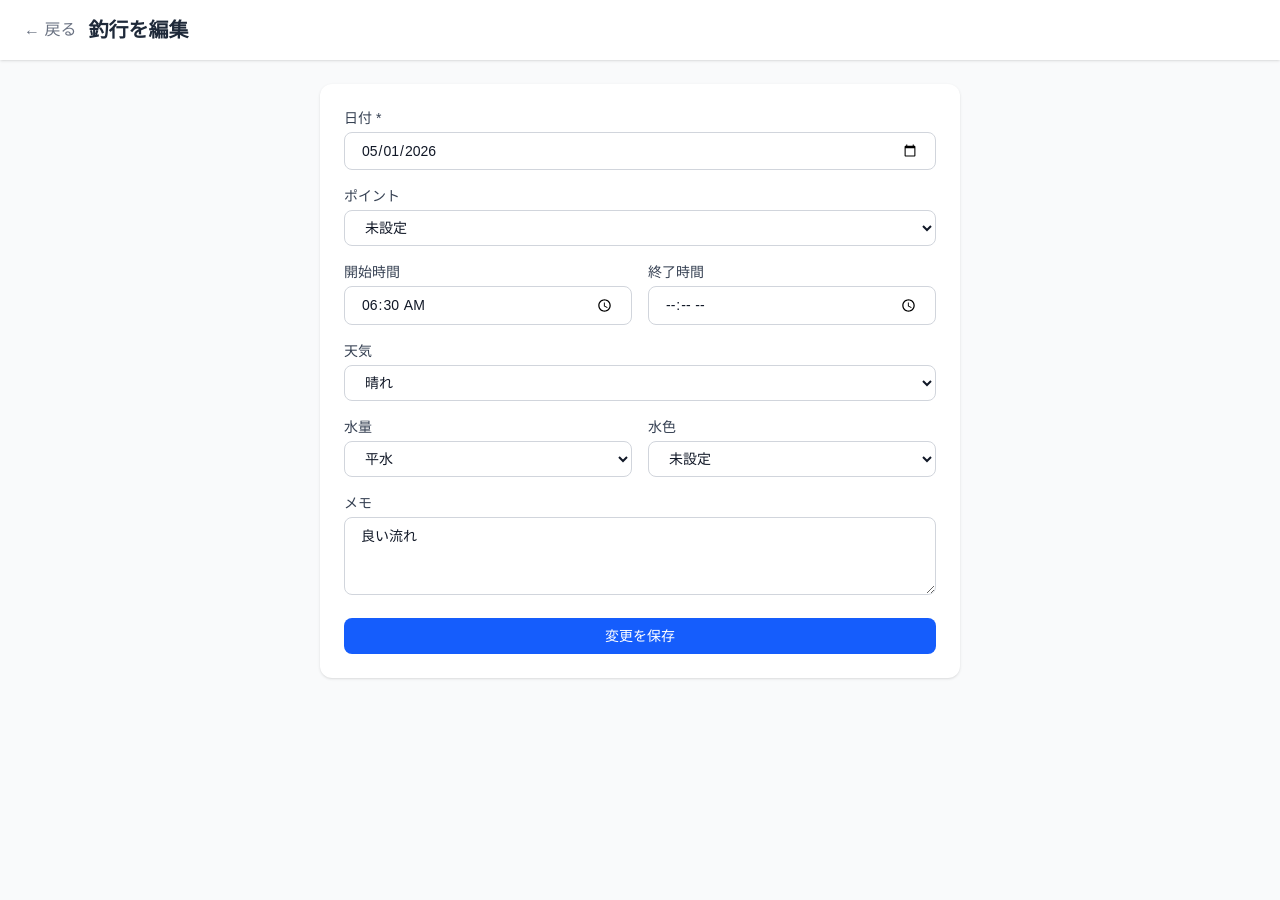
Test: EditSessionPage › 保存失敗時はエラーメッセージを表示し遷移しない
Expected: the date field labelled "日付 *" is shown, [344,132,936,170]
Click the button "変更を保存".
click(640, 636)  # box [344,618,936,654]
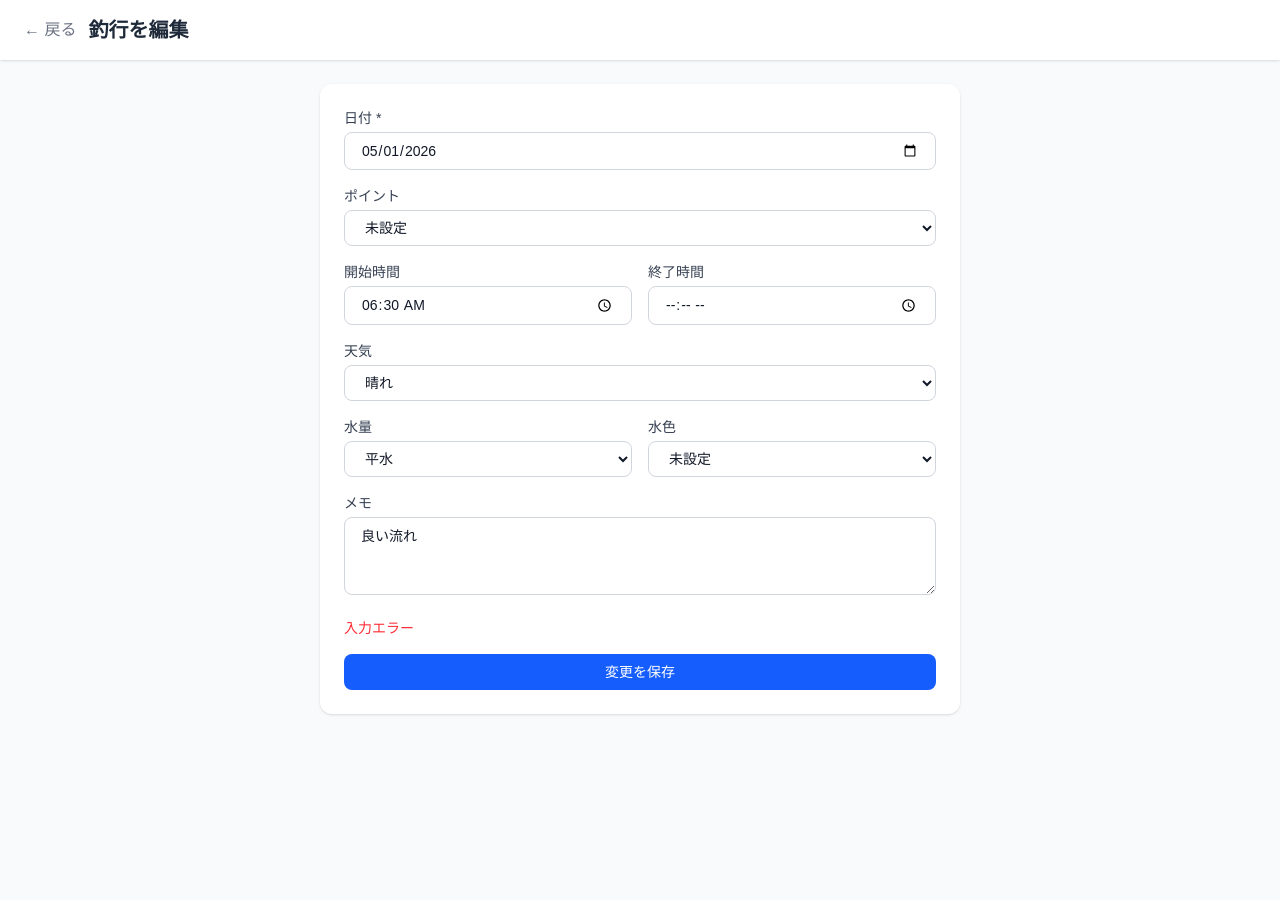
Result: the text "入力エラー" is shown at [344,620,414,636]
